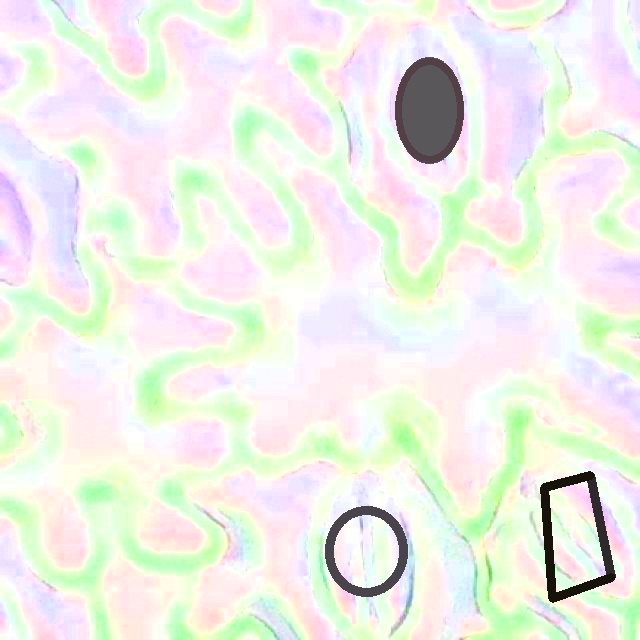open: (540, 471, 615, 602), (395, 57, 464, 163), (325, 506, 406, 596)
